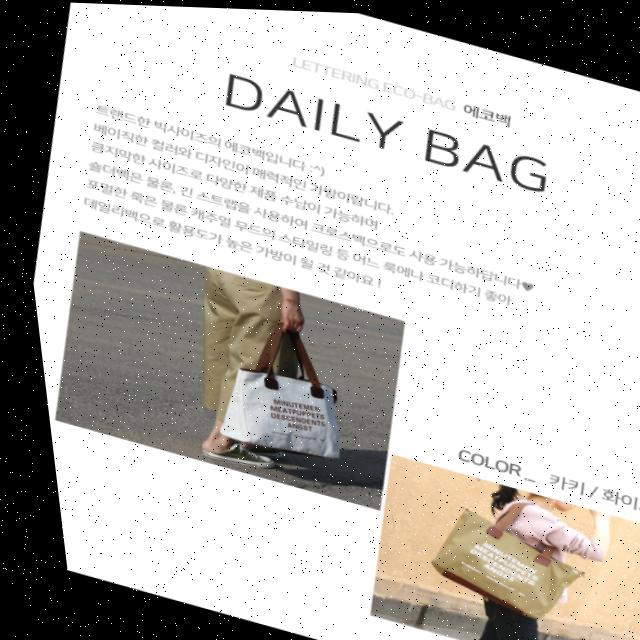ecobag: (395, 474, 593, 633), (184, 312, 370, 477)
